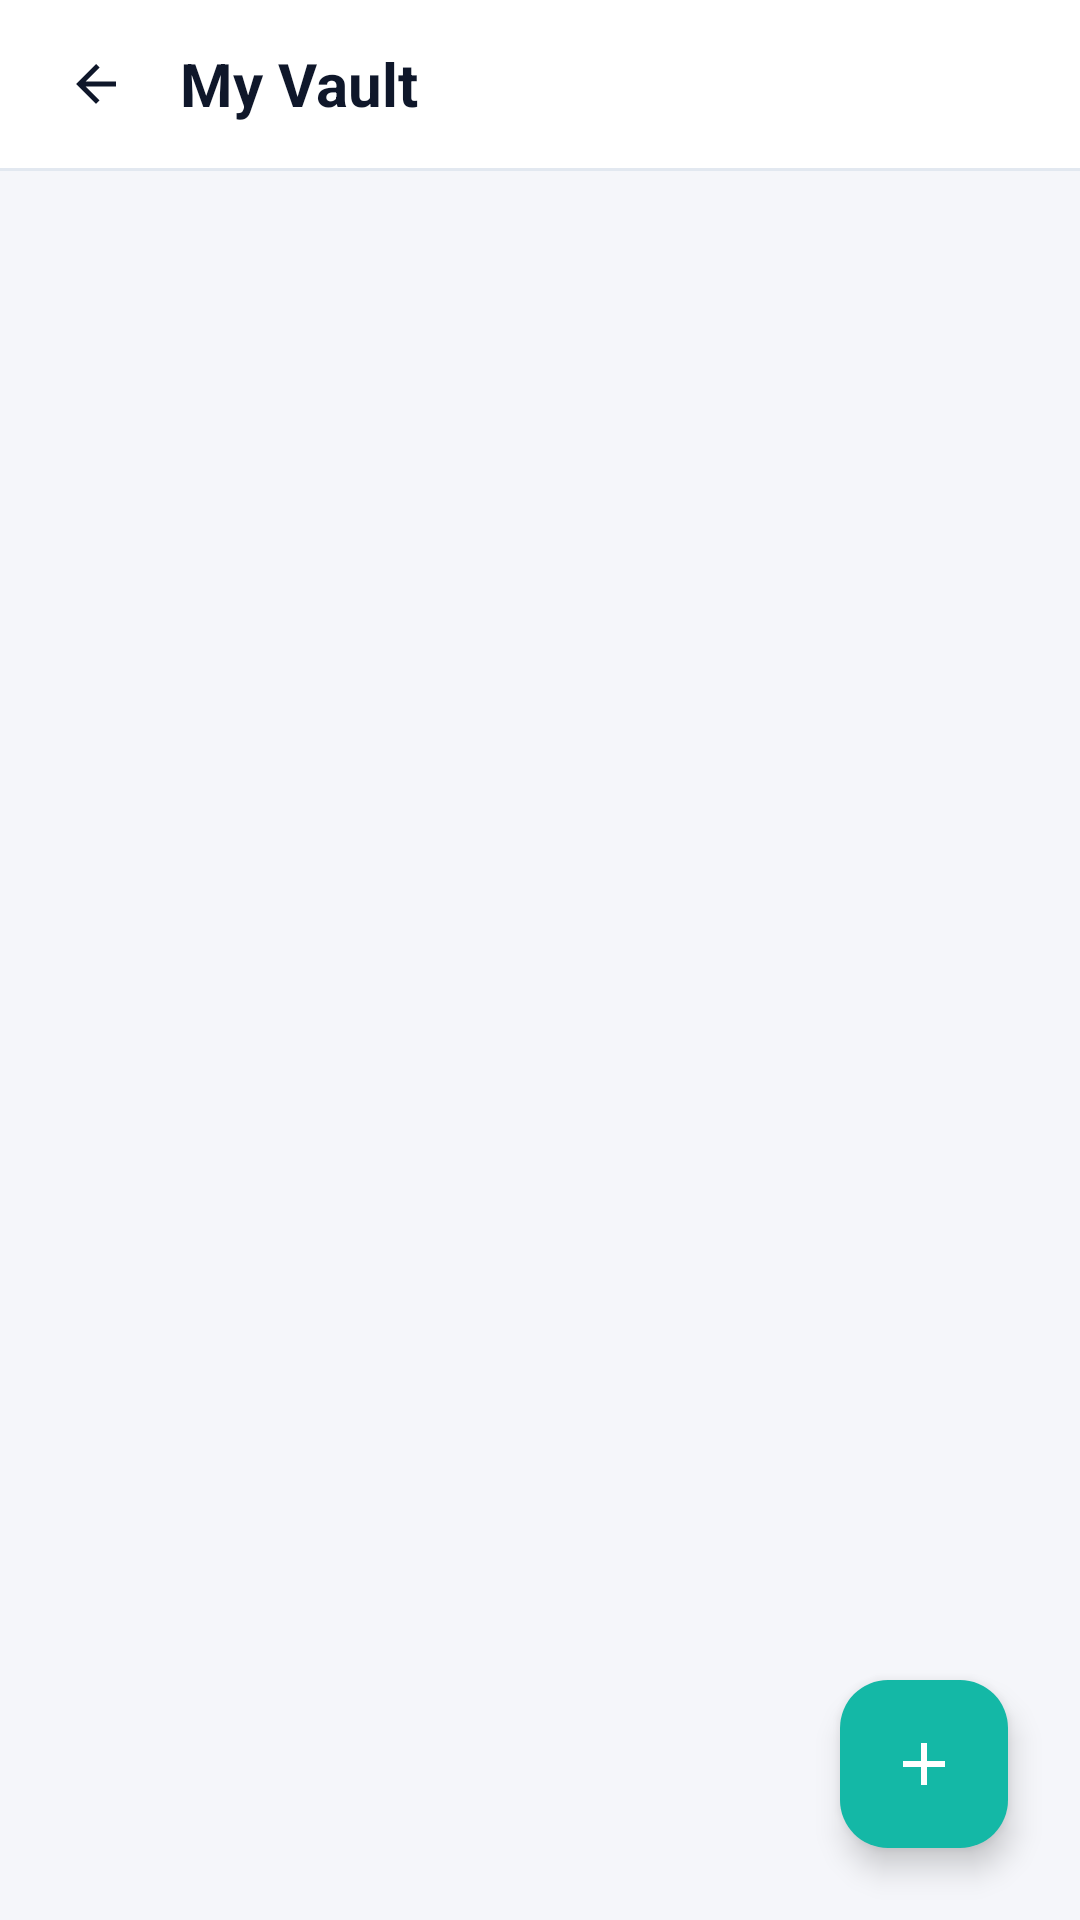

Icon bounding boxes for this 1080w x 1920h phone screenshot, format (x1, y1, x2, y2):
Back: (76, 64, 116, 104)
